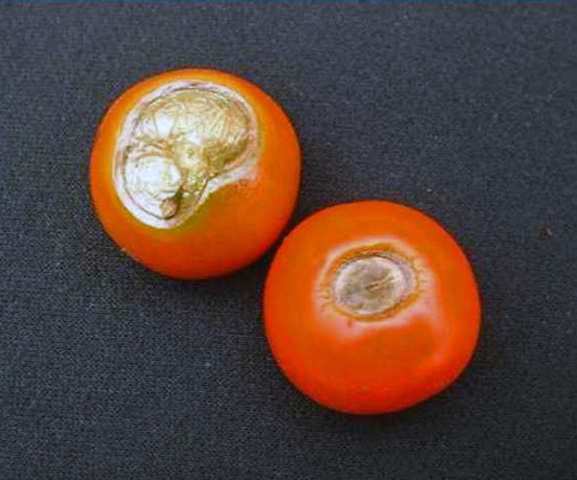blossom_rotw: (100, 74, 268, 251), (318, 230, 443, 357)
